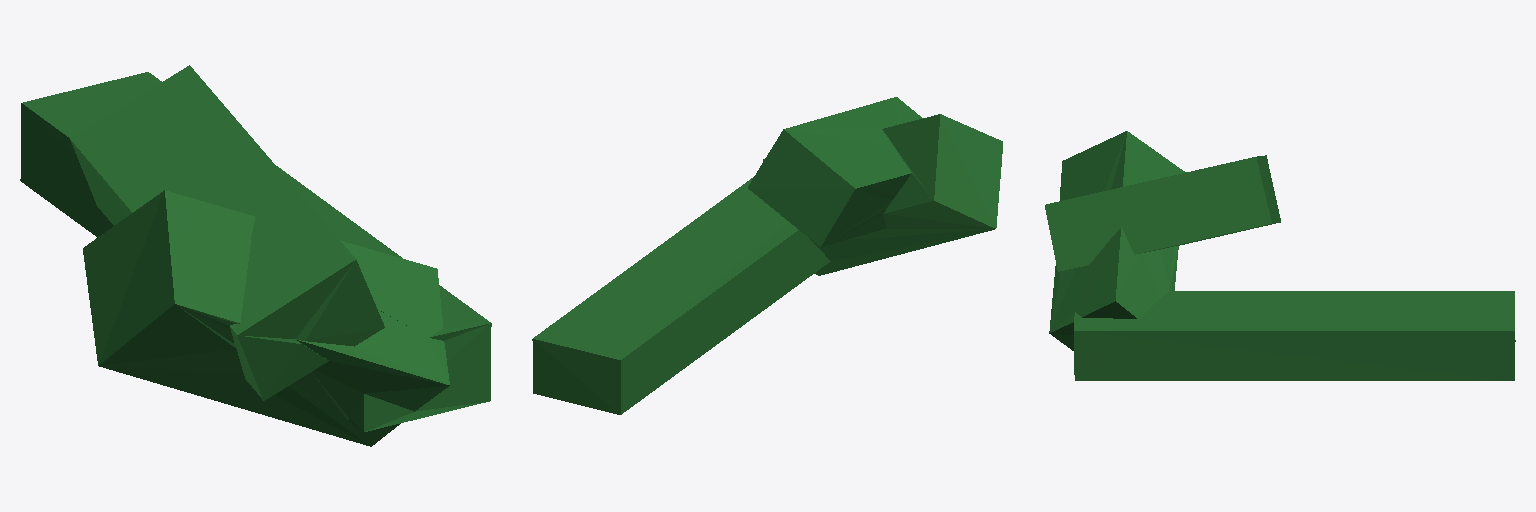
URDF robot description (blob704):

<robot name="blob704">
  <link name="random_obj_704">
    <contact>
      <lateral_friction value="1.0"/>
      <rolling_friction value="0.0"/>
      <inertia_scaling value="3.0"/>
      <contact_cfm value="0.0"/>
      <contact_erp value="1.0"/>
    </contact>
    <inertial>
      <origin rpy="0 0 0" xyz="0 0 0"/>
      <mass value="0.1115"/>
      <inertia ixx="1" ixy="0" ixz="0" iyy="1" iyz="0" izz="0"/>
    </inertial>
    <visual>
      <origin rpy="0 0 0" xyz="0 0 0"/>
      <geometry>
        <mesh filename="704.obj" scale="0.0073 0.0073 0.0073"/>
      </geometry>
      <material name="blockmat">
        <color rgba="0.22 0.48 0.25 1"/>
      </material>
    </visual>
    <collision>
      <origin rpy="0 0 0" xyz="0 0 0"/>
      <geometry>
        <mesh filename="704_coll.obj" scale="0.0073 0.0073 0.0073"/>
      </geometry>
    </collision>
  </link>
</robot>

--- Render facts (derived) ---
Views: 3 orthographic renders of the robot side by side, from view 1: azimuth 30°, elevation 25°; view 2: azimuth 150°, elevation 25°; view 3: azimuth 270°, elevation 25°.
Model blob704 with 1 links and 0 joints (none), rooted at random_obj_704, posed every joint at zero.
Links seen in each view (by area): view 1: random_obj_704; view 2: random_obj_704; view 3: random_obj_704.
Boxes of the visible links, x1,y1,x2,y2 form: random_obj_704: (20,65,491,446); random_obj_704: (532,97,1002,414); random_obj_704: (1045,131,1515,380).
Size in the robot's own frame: 0.0531 by 0.0939 by 0.0441 metres.
1 mesh visuals loaded from 1 distinct referenced files (1 OBJ).
